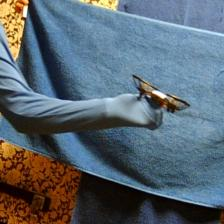drone: (130, 74, 192, 116)
